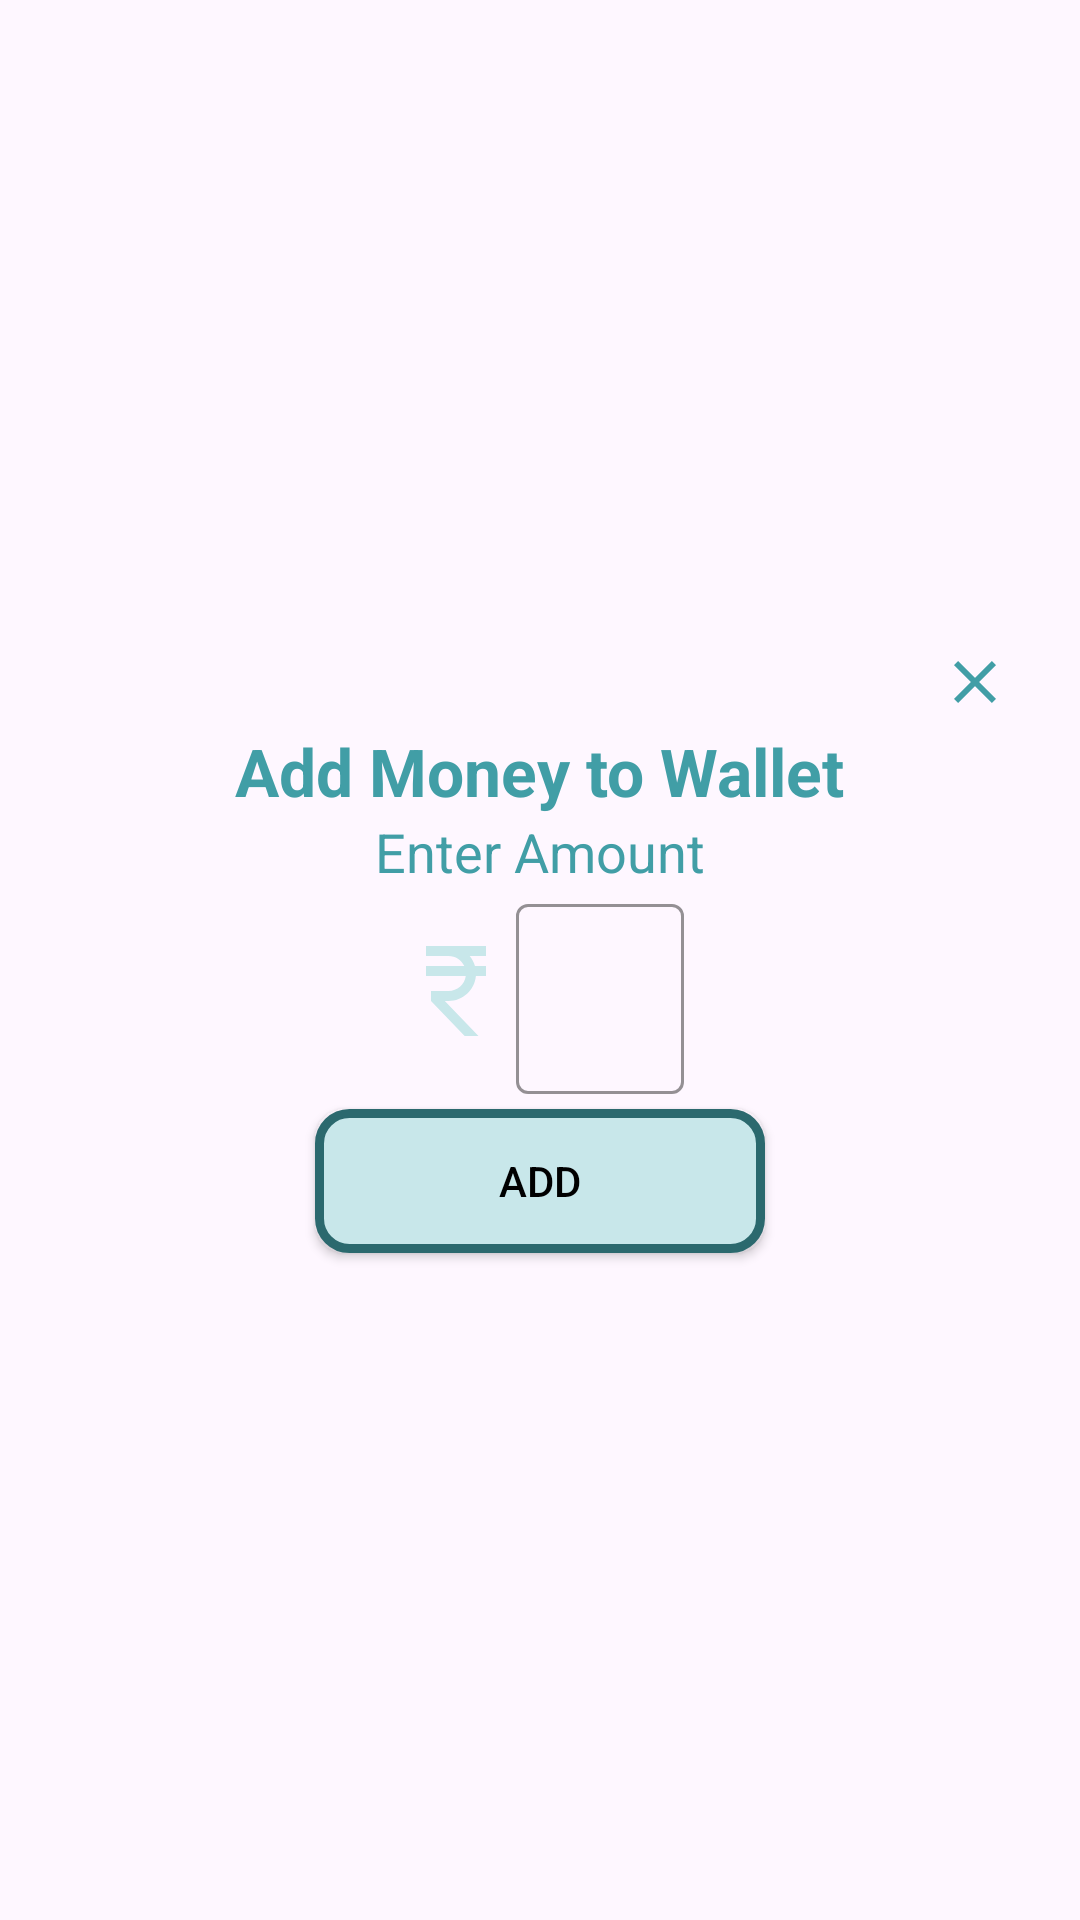

Screen size 1080px×1920px. Icon name, then its center in pixels as [x,y]:
close: [975,682]
currency rupee: [456,991]
